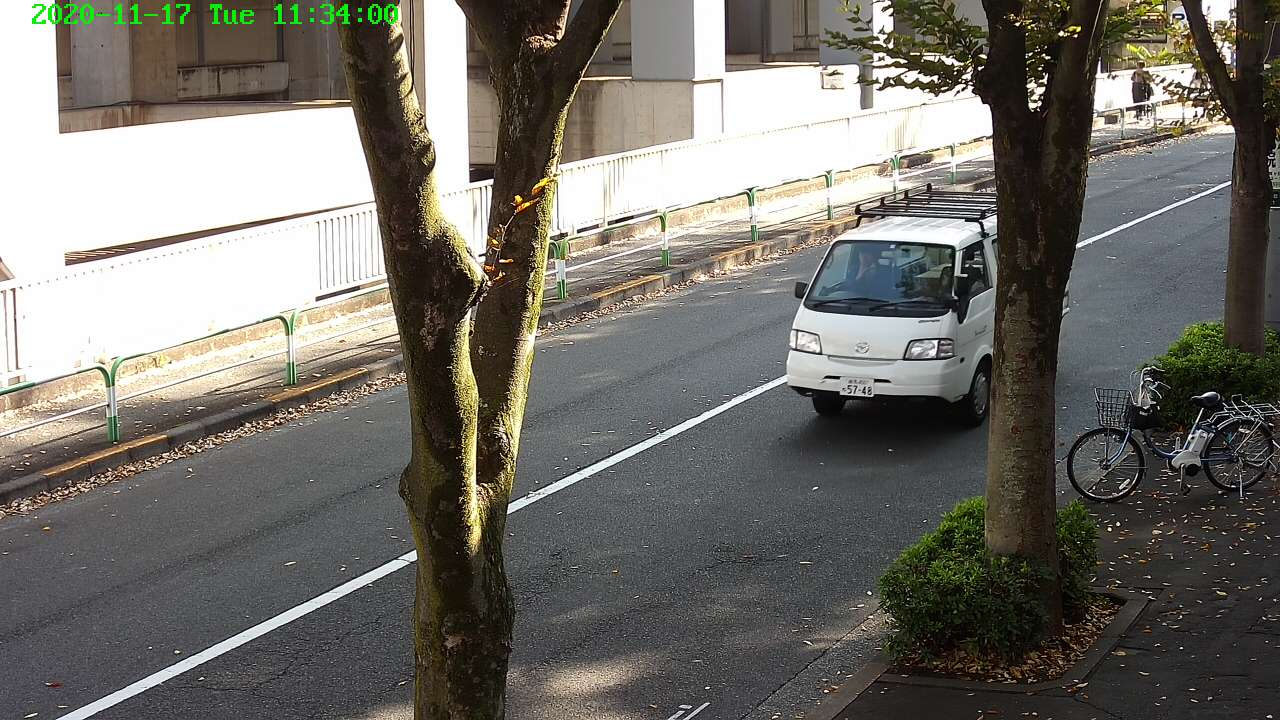number_plate: (841, 373, 875, 398)
